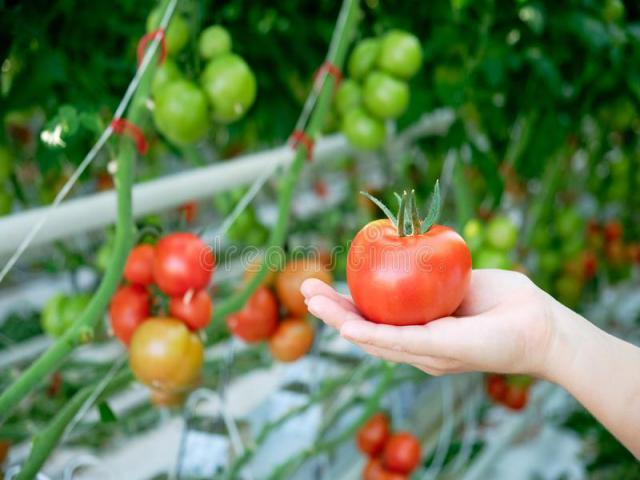tomato: (352, 211, 478, 328), (142, 230, 212, 294), (231, 279, 280, 339), (108, 289, 146, 334), (164, 296, 208, 332), (380, 434, 420, 472)
